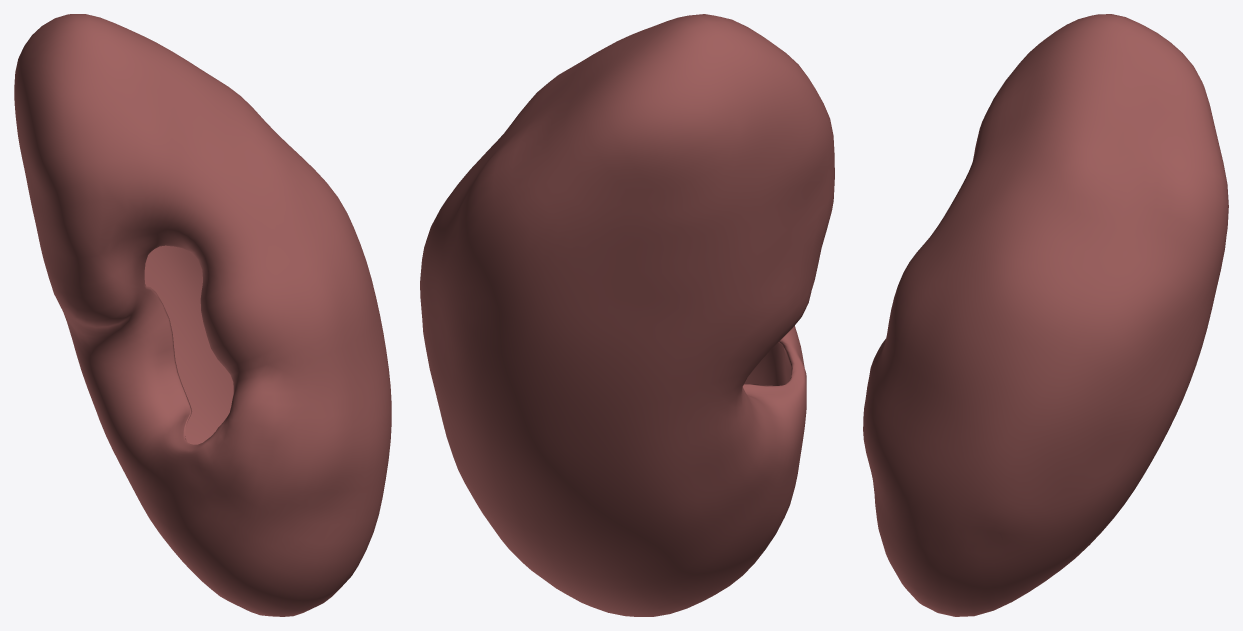
The model's file is frau2-565.glb.
The picture shows the model from 3 angles, left to right: view 1: azimuth 30°, elevation 25°; view 2: azimuth 150°, elevation 25°; view 3: azimuth 270°, elevation 25°; orthographic projection. The views are drawn at different scales.
Parts seen in each view (by area): view 1: VH_F_kidney_capsule_L; view 2: VH_F_kidney_capsule_L; view 3: VH_F_kidney_capsule_L.
Part boxes in pixels (box(x1,y1,x2,y2)): VH_F_kidney_capsule_L: box(14, 14, 391, 616); VH_F_kidney_capsule_L: box(420, 14, 834, 616); VH_F_kidney_capsule_L: box(863, 14, 1228, 616).
Bounding box in the file's own units: 0.0731 × 0.1249 × 0.0776.
